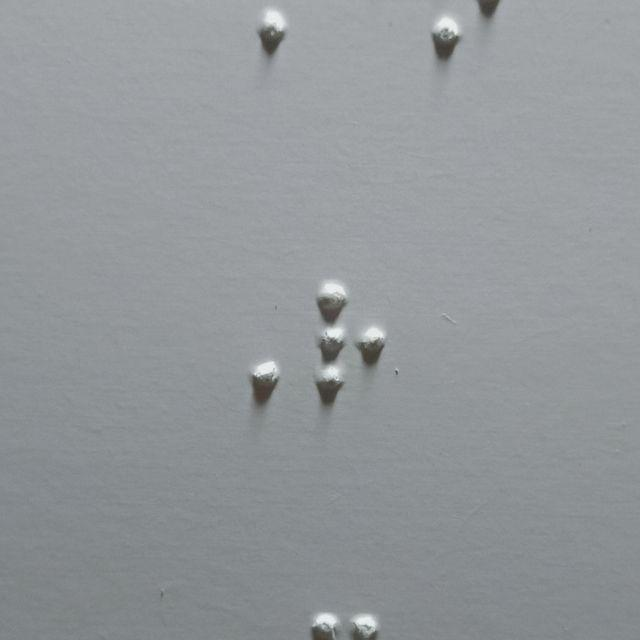R: (317, 279, 384, 399)
capital: (217, 274, 283, 394)
